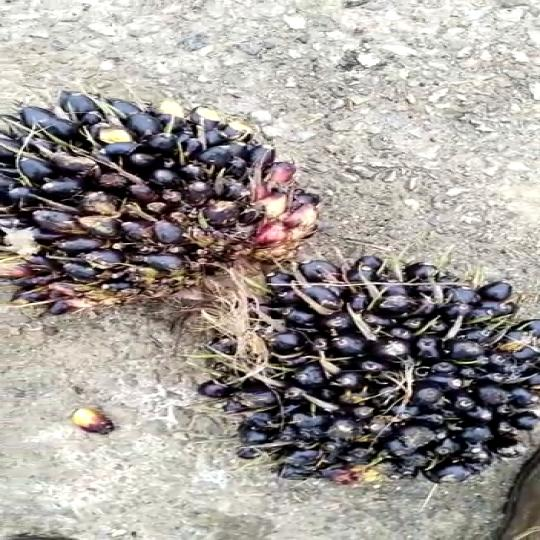mentah: (188, 248, 540, 495), (0, 79, 351, 319)
